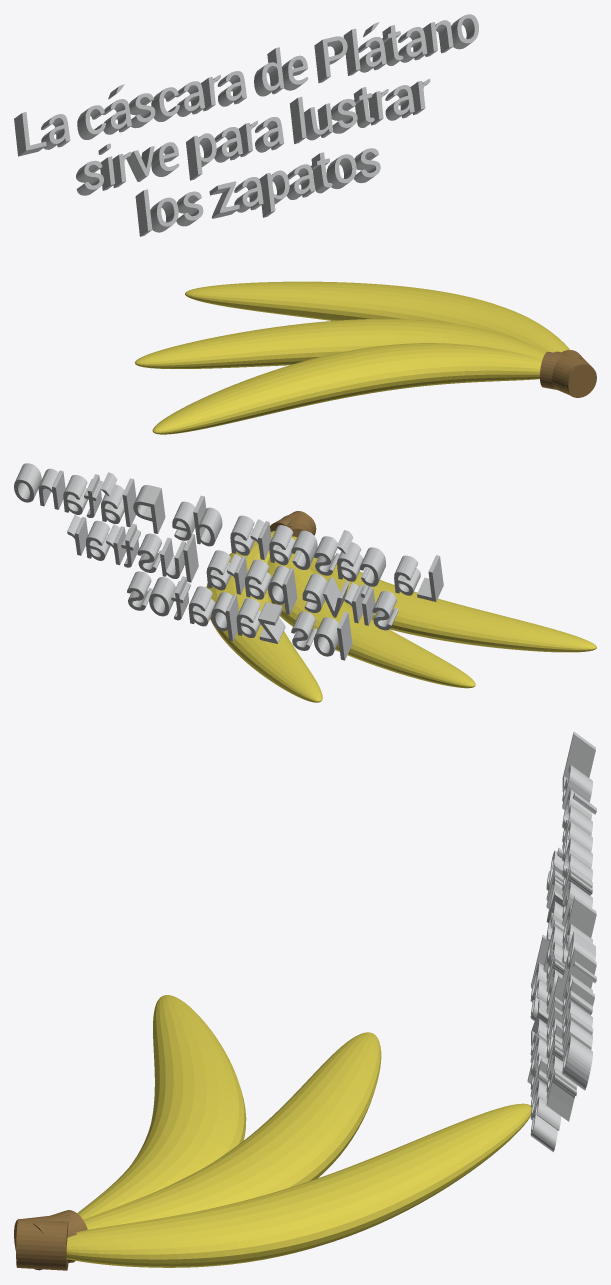
Rendered from asset.glb.
3 renders of one model, top to bottom at view 1: azimuth 30°, elevation 25°; view 2: azimuth 150°, elevation 25°; view 3: azimuth 270°, elevation 25°, orthographic. The views are drawn at different scales.
Parts seen in each view (by area): view 1: Mesh_Mesh_head_geo.001_lambert2SG.001; view 2: Mesh_Mesh_head_geo.001_lambert2SG.001; view 3: Mesh_Mesh_head_geo.001_lambert2SG.001.
Part boxes in pixels (<box>): Mesh_Mesh_head_geo.001_lambert2SG.001: <box>14,14,596,434</box>; Mesh_Mesh_head_geo.001_lambert2SG.001: <box>14,463,596,702</box>; Mesh_Mesh_head_geo.001_lambert2SG.001: <box>14,731,596,1270</box>.
Size of the model in its own units: 150 by 68 by 118.
